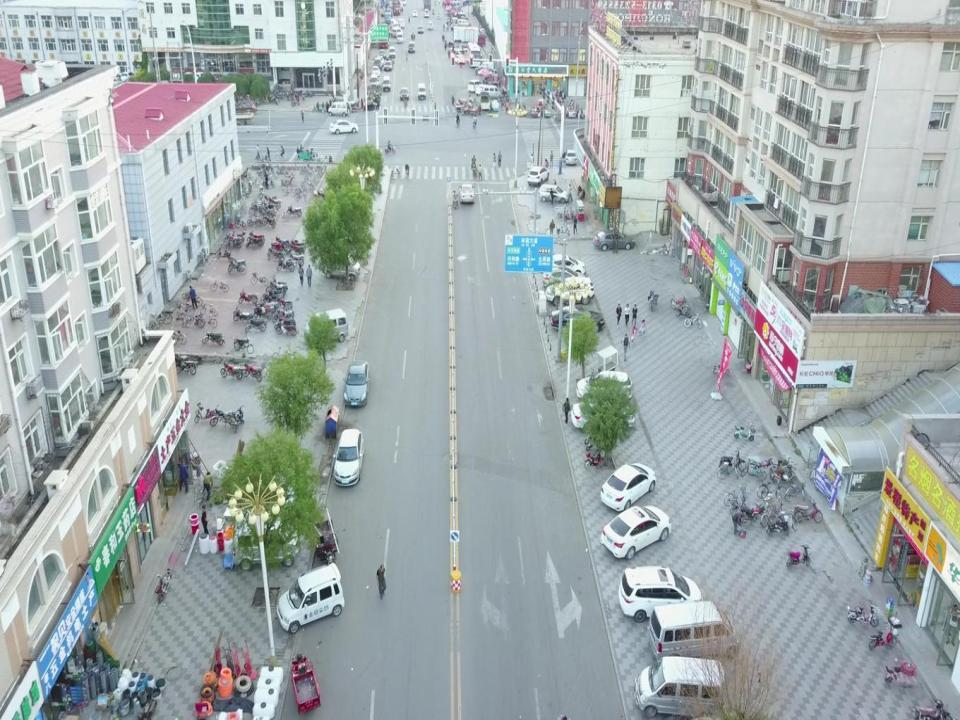bus: (464, 42, 482, 68)
car: (632, 655, 726, 719), (646, 604, 740, 664), (618, 563, 706, 623), (275, 561, 346, 632), (600, 506, 673, 560), (596, 460, 660, 511), (571, 400, 635, 432), (333, 428, 364, 489), (573, 373, 635, 400), (304, 306, 349, 342), (550, 306, 606, 334), (320, 248, 360, 280), (343, 360, 370, 406), (541, 253, 587, 278), (546, 279, 594, 302), (542, 265, 588, 287), (592, 229, 635, 252), (539, 182, 566, 202), (329, 118, 359, 134), (528, 164, 549, 185), (474, 82, 500, 95), (459, 183, 474, 203), (367, 80, 381, 95), (565, 148, 577, 165), (468, 78, 482, 92), (417, 82, 426, 100), (382, 76, 392, 92), (384, 60, 395, 72), (377, 48, 387, 59), (390, 27, 401, 37), (400, 88, 408, 100), (388, 46, 396, 58), (374, 57, 382, 69), (396, 32, 404, 44), (371, 65, 380, 75), (407, 42, 414, 54), (416, 25, 425, 34), (370, 72, 378, 82), (411, 8, 418, 18), (455, 112, 460, 125), (396, 18, 404, 25), (426, 21, 433, 29), (424, 8, 429, 19)
truck: (383, 11, 391, 26)
van: (329, 100, 349, 115), (458, 18, 469, 27)
